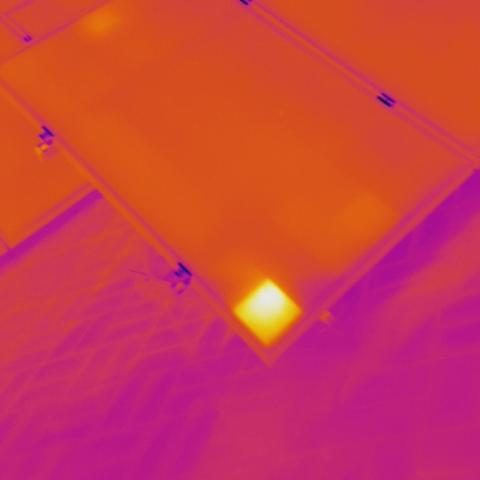fault: (235, 274, 306, 352)
